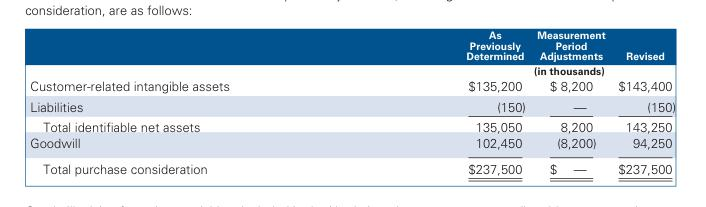table: (29, 28, 675, 175)
table column: (29, 28, 347, 175), (347, 28, 530, 175), (530, 28, 611, 175), (611, 28, 675, 175)
table column header: (29, 28, 675, 77)
table row: (29, 28, 675, 63), (29, 95, 675, 116), (29, 134, 675, 155), (29, 155, 675, 175), (29, 77, 675, 95), (29, 116, 675, 134), (29, 63, 675, 77)
table spanning cell: (347, 63, 675, 77)
